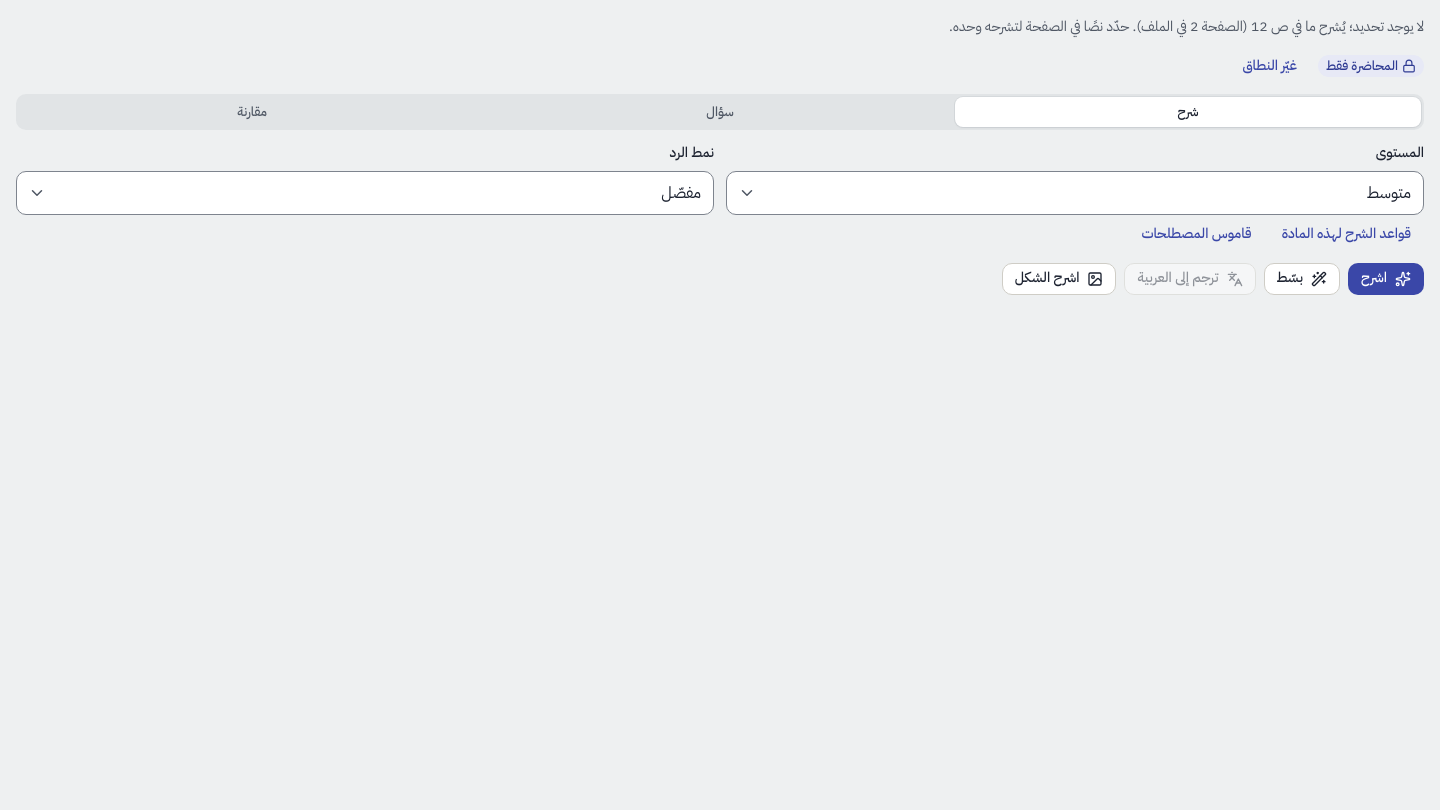
it: ExplainTab › Ask: the composer is disabled with the chat capability’s reason when chat is not configured
This screenshot has width=1440, height=810.
Click the radio button labelled "سؤال" at (720, 112), box [487,97,953,127]
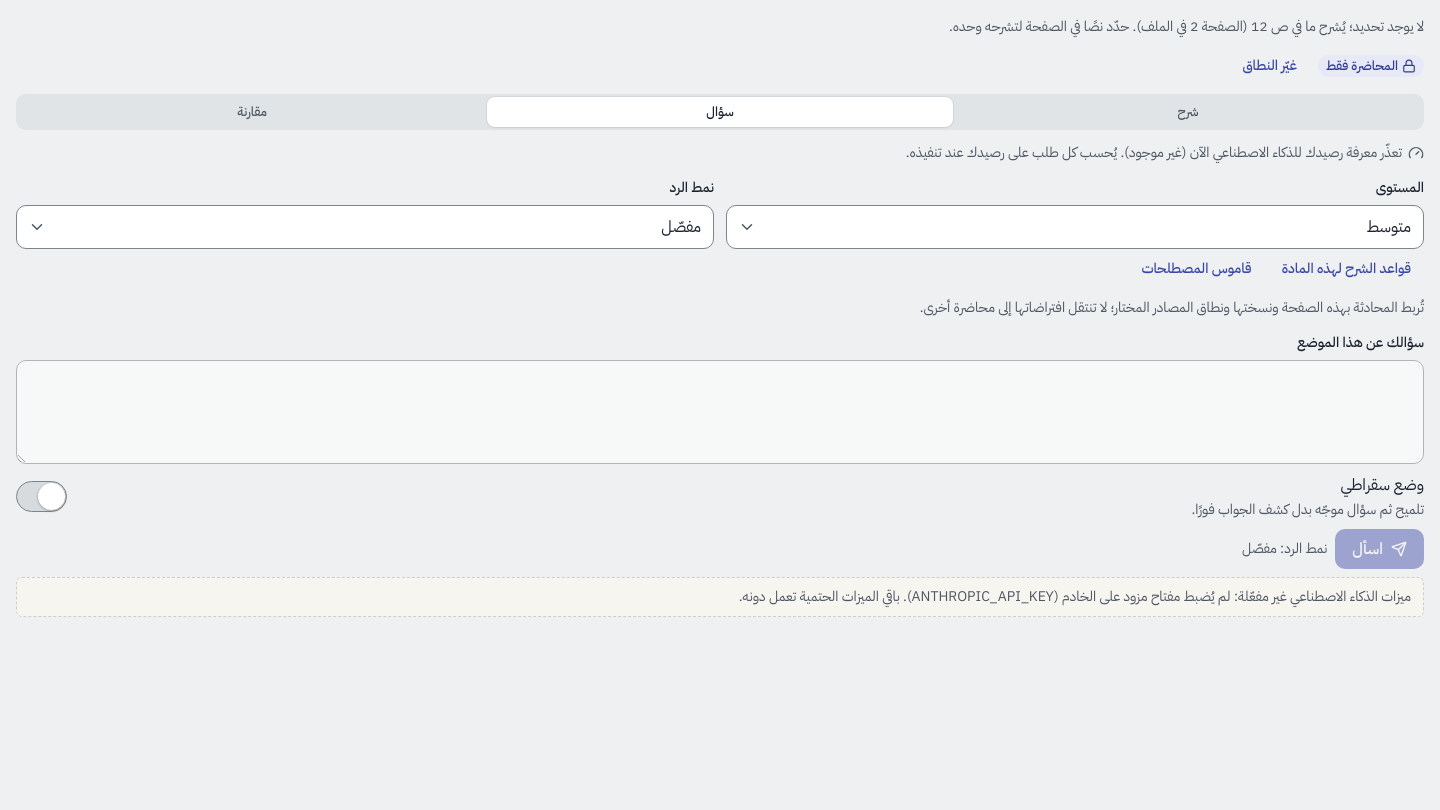
Check: the text box labelled "سؤالك عن هذا الموضع" is disabled, box [16,360,1424,464]
Check: the button "اسأل" is disabled, box [1335,529,1424,569]
Check: the text "ميزات الذكاء الاصطناعي غير مفعّلة: لم يُضبط مفتاح مزود على الخادم (ANTHROPIC_API_KEY). باقي الميزات الحتمية تعمل دونه." is shown, box [739,586,1411,607]
